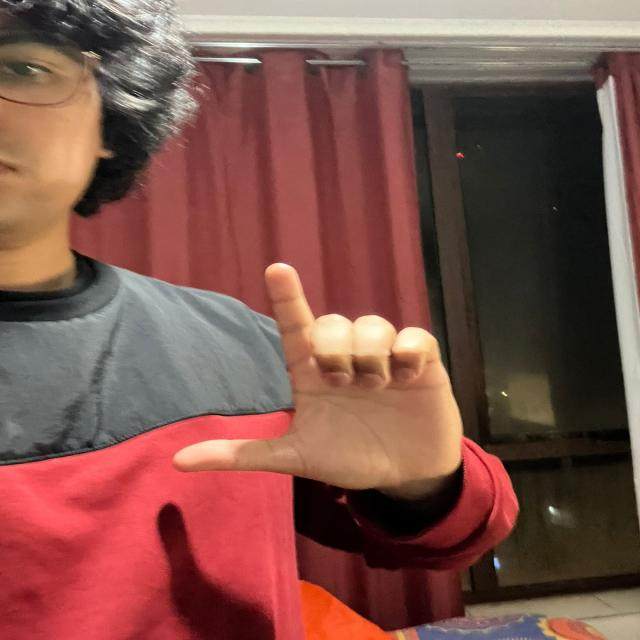L: (159, 255, 476, 498)
